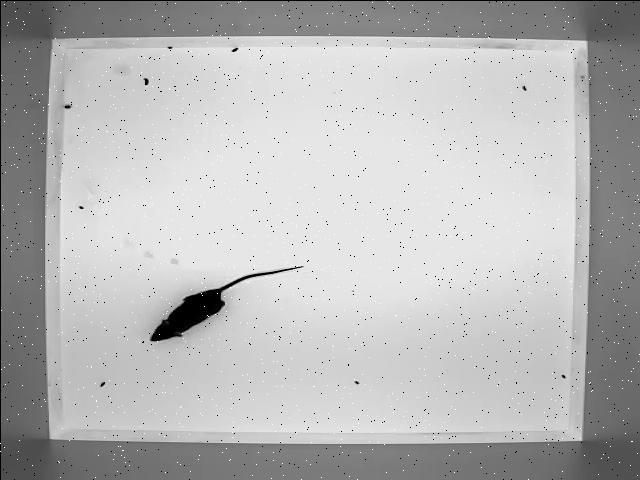Tikus: (144, 260, 306, 344)
